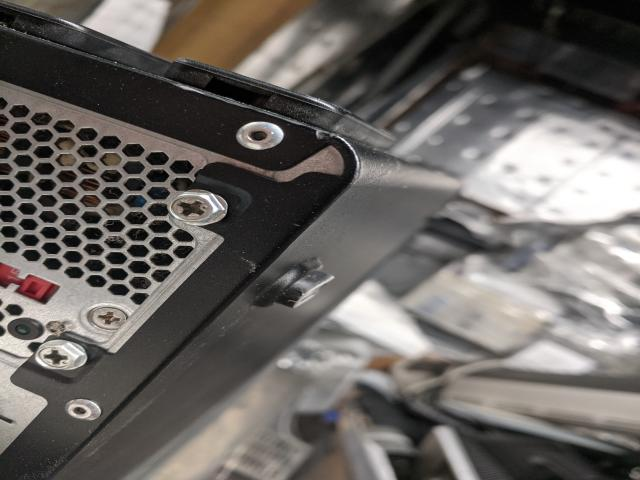CRS: (170, 194, 223, 226), (33, 343, 85, 372), (89, 306, 130, 330)
